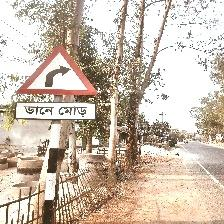Right-turn: (13, 44, 99, 124)
